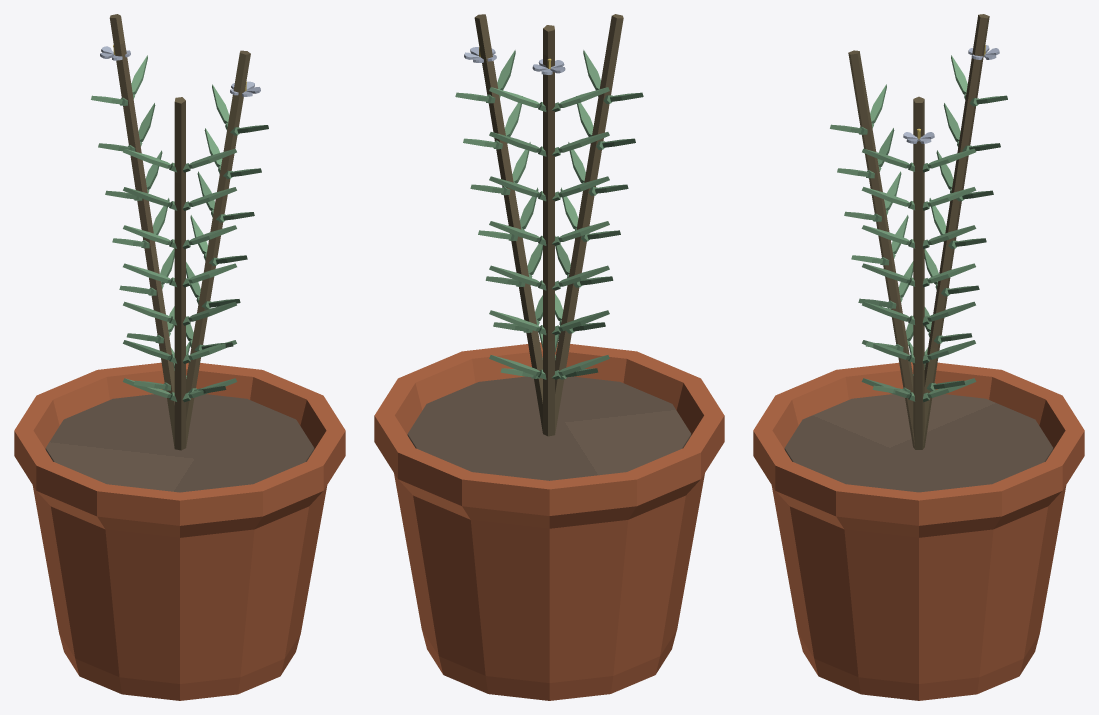
File: rosemary.glb
The picture shows the model from 3 angles, left to right: view 1: azimuth 30°, elevation 25°; view 2: azimuth 150°, elevation 25°; view 3: azimuth 270°, elevation 25°; orthographic projection. The views are drawn at different scales.
Visible parts, largest first — view 1: rosemary/review-terra-vessel, rosemary/review-rooted-soil, rosemary/petiole-037, rosemary/petiole-073, rosemary/petiole-001; view 2: rosemary/review-terra-vessel, rosemary/review-rooted-soil, rosemary/petiole-037, rosemary/petiole-073, rosemary/petiole-001; view 3: rosemary/review-terra-vessel, rosemary/review-rooted-soil, rosemary/petiole-037, rosemary/petiole-001, rosemary/petiole-073.
Boxes of the visible parts, x1,y1,x2,y2 form: rosemary/review-terra-vessel: (14, 362, 345, 700); rosemary/review-rooted-soil: (45, 394, 314, 492); rosemary/petiole-037: (109, 14, 174, 447); rosemary/petiole-073: (174, 97, 185, 450); rosemary/petiole-001: (185, 50, 250, 448); rosemary/review-terra-vessel: (374, 342, 724, 700); rosemary/review-rooted-soil: (407, 376, 691, 480); rosemary/petiole-037: (543, 25, 554, 436); rosemary/petiole-073: (555, 14, 623, 434); rosemary/petiole-001: (474, 14, 543, 434); rosemary/review-terra-vessel: (753, 362, 1084, 700); rosemary/review-rooted-soil: (784, 394, 1053, 492); rosemary/petiole-037: (922, 14, 989, 448); rosemary/petiole-001: (913, 96, 924, 449); rosemary/petiole-073: (848, 50, 915, 448).
Size of the model in its own units: 0.19 by 0.3925 by 0.19.
Materials: 6 (6 with a texture image).
